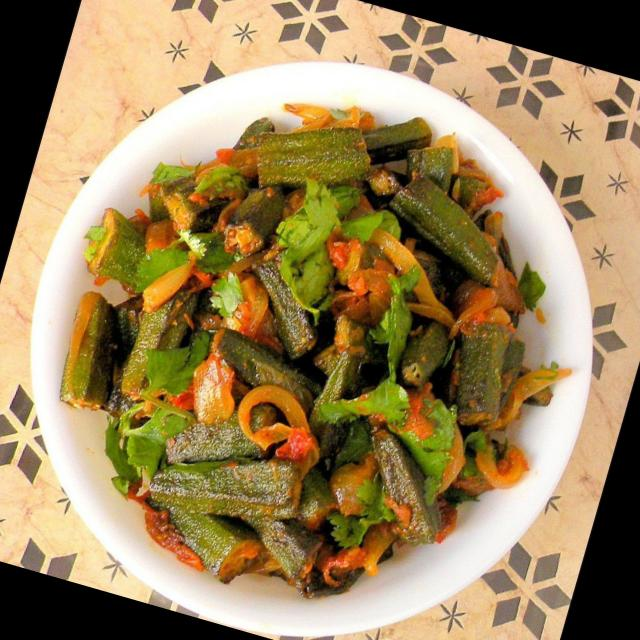BhindiMasala: (6, 37, 627, 640)
